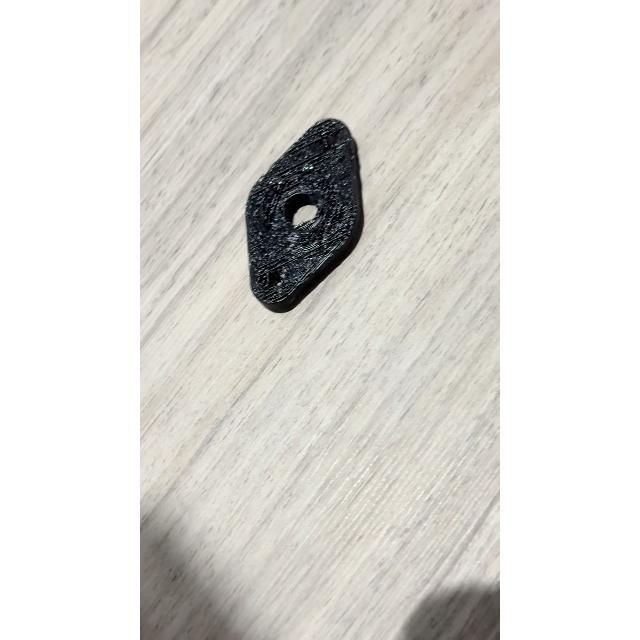Pieza2: (238, 109, 382, 324)
